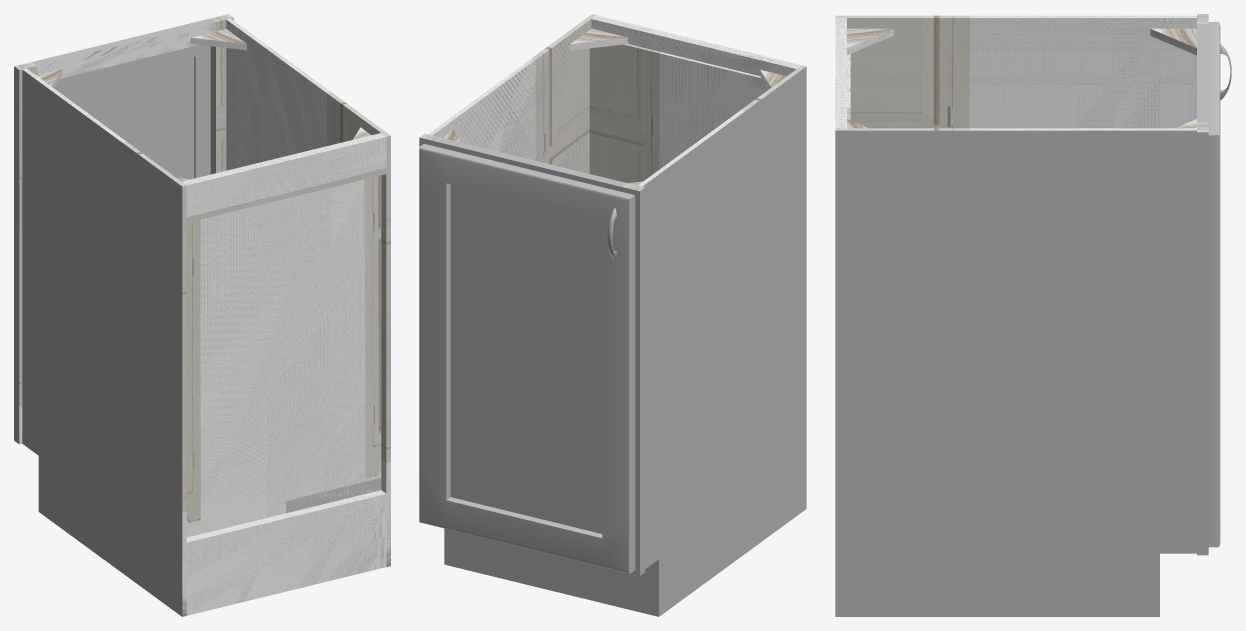
3 views of the same model, side by side, from view 1: azimuth 30°, elevation 25°; view 2: azimuth 150°, elevation 25°; view 3: azimuth 270°, elevation 25° (orthographic). The views are drawn at different scales.
Parts seen in each view (by area): view 1: mesh9_mesh9-geometry, mesh4_mesh4-geometry, mesh10_mesh10-geometry, mesh12_mesh12-geometry, mesh18_mesh18-geometry, mesh5_mesh5-geometry, mesh3_mesh3-geometry, mesh1_mesh1-geometry, mesh28_mesh28-geometry, mesh2_mesh2-geometry, mesh23_mesh23-geometry, mesh25_mesh25-geometry (+4 smaller); view 2: mesh4_mesh4-geometry, mesh27_mesh27-geometry, mesh9_mesh9-geometry, mesh12_mesh12-geometry, mesh26_mesh26-geometry, mesh25_mesh25-geometry, mesh5_mesh5-geometry, mesh14_mesh14-geometry, mesh23_mesh23-geometry, mesh24_mesh24-geometry, mesh3_mesh3-geometry, mesh1_mesh1-geometry (+7 smaller); view 3: mesh12_mesh12-geometry, mesh4_mesh4-geometry, mesh13_mesh13-geometry, mesh11_mesh11-geometry, mesh1_mesh1-geometry, mesh25_mesh25-geometry, mesh3_mesh3-geometry, mesh18_mesh18-geometry, mesh2_mesh2-geometry, mesh19_mesh19-geometry, mesh23_mesh23-geometry, mesh7_mesh7-geometry (+2 smaller).
Boxes of the visible parts, x1=… form: mesh9_mesh9-geometry: x1=186, y1=175, x2=381, y2=537; mesh4_mesh4-geometry: x1=38, y1=80, x2=186, y2=560; mesh10_mesh10-geometry: x1=186, y1=490, x2=386, y2=615; mesh12_mesh12-geometry: x1=242, y1=30, x2=390, y2=510; mesh18_mesh18-geometry: x1=182, y1=133, x2=386, y2=222; mesh5_mesh5-geometry: x1=38, y1=456, x2=186, y2=616; mesh3_mesh3-geometry: x1=22, y1=68, x2=42, y2=455; mesh1_mesh1-geometry: x1=14, y1=14, x2=233, y2=444; mesh28_mesh28-geometry: x1=77, y1=79, x2=181, y2=178; mesh2_mesh2-geometry: x1=32, y1=18, x2=215, y2=78; mesh23_mesh23-geometry: x1=58, y1=49, x2=183, y2=104; mesh25_mesh25-geometry: x1=182, y1=73, x2=210, y2=179; mesh4_mesh4-geometry: x1=655, y1=65, x2=806, y2=558; mesh27_mesh27-geometry: x1=463, y1=207, x2=590, y2=509; mesh9_mesh9-geometry: x1=589, y1=44, x2=768, y2=183; mesh12_mesh12-geometry: x1=445, y1=14, x2=596, y2=173; mesh26_mesh26-geometry: x1=590, y1=238, x2=635, y2=521; mesh25_mesh25-geometry: x1=419, y1=199, x2=463, y2=478; mesh5_mesh5-geometry: x1=654, y1=451, x2=806, y2=616; mesh14_mesh14-geometry: x1=449, y1=529, x2=654, y2=615; mesh23_mesh23-geometry: x1=460, y1=154, x2=592, y2=238; mesh24_mesh24-geometry: x1=460, y1=479, x2=590, y2=562; mesh3_mesh3-geometry: x1=638, y1=173, x2=658, y2=568; mesh1_mesh1-geometry: x1=419, y1=133, x2=645, y2=575; mesh12_mesh12-geometry: x1=835, y1=128, x2=1159, y2=553; mesh4_mesh4-geometry: x1=835, y1=15, x2=1159, y2=128; mesh13_mesh13-geometry: x1=835, y1=553, x2=1159, y2=616; mesh11_mesh11-geometry: x1=1160, y1=128, x2=1196, y2=553; mesh1_mesh1-geometry: x1=1197, y1=14, x2=1208, y2=555; mesh25_mesh25-geometry: x1=1208, y1=191, x2=1220, y2=490; mesh3_mesh3-geometry: x1=1160, y1=15, x2=1196, y2=128; mesh18_mesh18-geometry: x1=835, y1=18, x2=846, y2=128; mesh2_mesh2-geometry: x1=1197, y1=24, x2=1208, y2=122; mesh19_mesh19-geometry: x1=1208, y1=112, x2=1220, y2=191; mesh23_mesh23-geometry: x1=1208, y1=44, x2=1220, y2=114; mesh7_mesh7-geometry: x1=1150, y1=28, x2=1196, y2=55.
Size of the model in its own units: 0.3869 by 0.7416 by 0.548.
